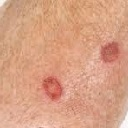Carcinoma: (42, 77, 65, 103), (98, 43, 122, 63)
